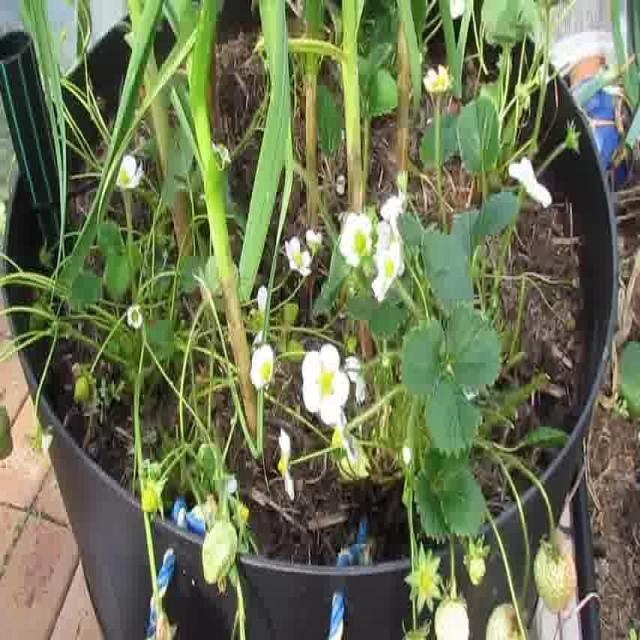Fruta sana: (534, 532, 578, 616), (202, 522, 238, 584), (0, 405, 13, 460), (28, 302, 46, 334), (140, 480, 158, 512), (468, 558, 486, 584), (73, 376, 90, 403), (401, 626, 432, 640), (421, 569, 432, 594), (36, 436, 42, 449)
Moho gris: (486, 602, 527, 640), (433, 598, 469, 640)
